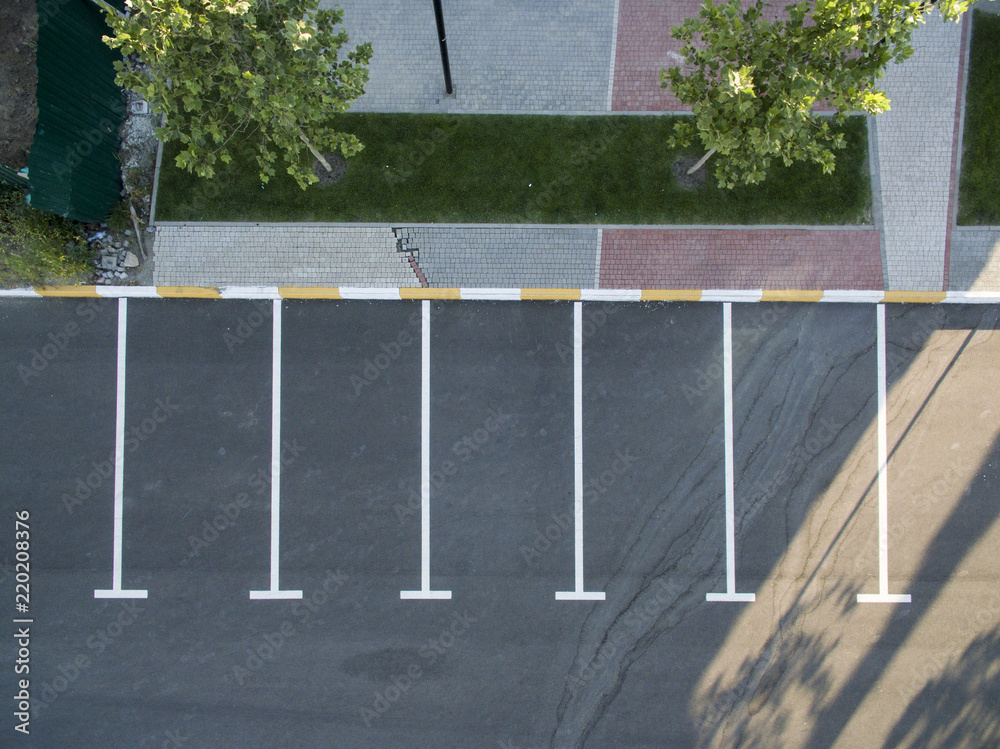Bos: (114, 300, 280, 599), (419, 303, 580, 596), (725, 304, 882, 601), (271, 300, 426, 600), (576, 303, 730, 601), (878, 305, 1000, 603), (1, 297, 121, 596)
